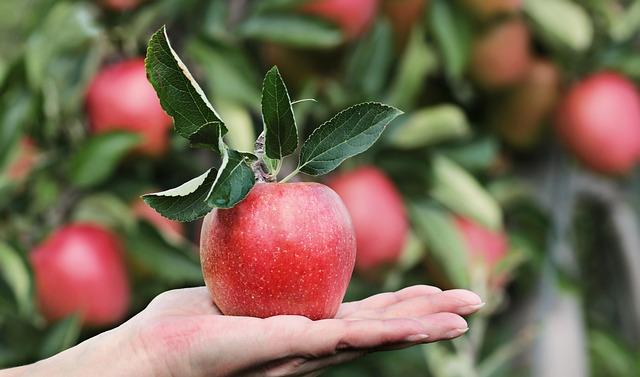non-mango: (198, 180, 357, 320)
